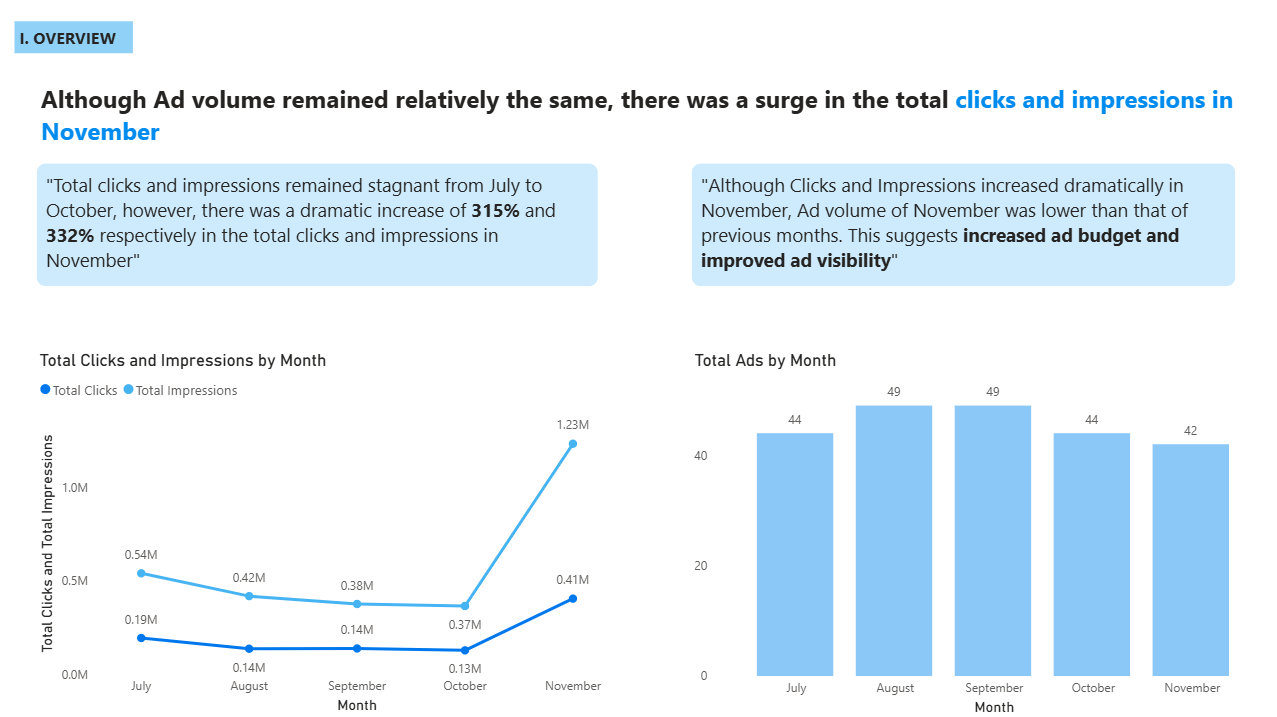

The page's visual inventory and layout, read from the dashboard file:
{"tool":"powerbi","page":{"name":"Engagement","canvas":[1280,720],"ordinal":1},"visuals":[{"type":"lineChart","title":"Total Clicks and Impressions by Month","fields":{"Y":["Sum(Marketing_Data.Clicks)","Sum(Marketing_Data.Impressions)"],"Category":["Marketing_Data.Date.Variation.Date Hierarchy.Month"]},"box":[37.4,350.6,587.3,368.4],"z":0},{"type":"clusteredColumnChart","fields":{"Category":["Marketing_Data.Date.Variation.Date Hierarchy.Month"],"Y":["_Measures.Ad volume"]},"box":[692.3,350.6,587.3,370.2],"z":1000},{"type":"textbox","box":[17.3,21.6,118.3,31.7],"z":2000},{"type":"textbox","box":[37.5,161.6,565.6,127],"z":3000},{"type":"textbox","box":[692.5,161.6,548.2,127],"z":4000},{"type":"textbox","box":[39,77.9,1203.3,83.7],"z":5000}]}

Visuals, with their boxes in screenshot pixels (x1, y1, x2, y2), scaled from the page's 1280x720 canvas onto the 1277x717 screenshot:
"Total Clicks and Impressions by Month" lineChart: 37:349:623:716
clusteredColumnChart - Marketing_Data.Date.Variation.Date Hierarchy.Month x _Measures.Ad volume: 691:349:1276:716
textbox: 17:22:135:53
textbox: 37:161:602:287
textbox: 691:161:1238:287
textbox: 39:78:1239:161
